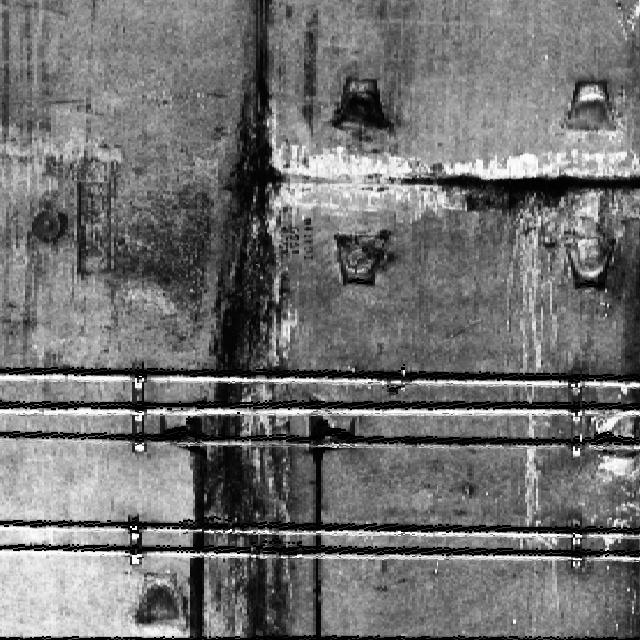leakage: (178, 0, 302, 639), (345, 148, 639, 248)
